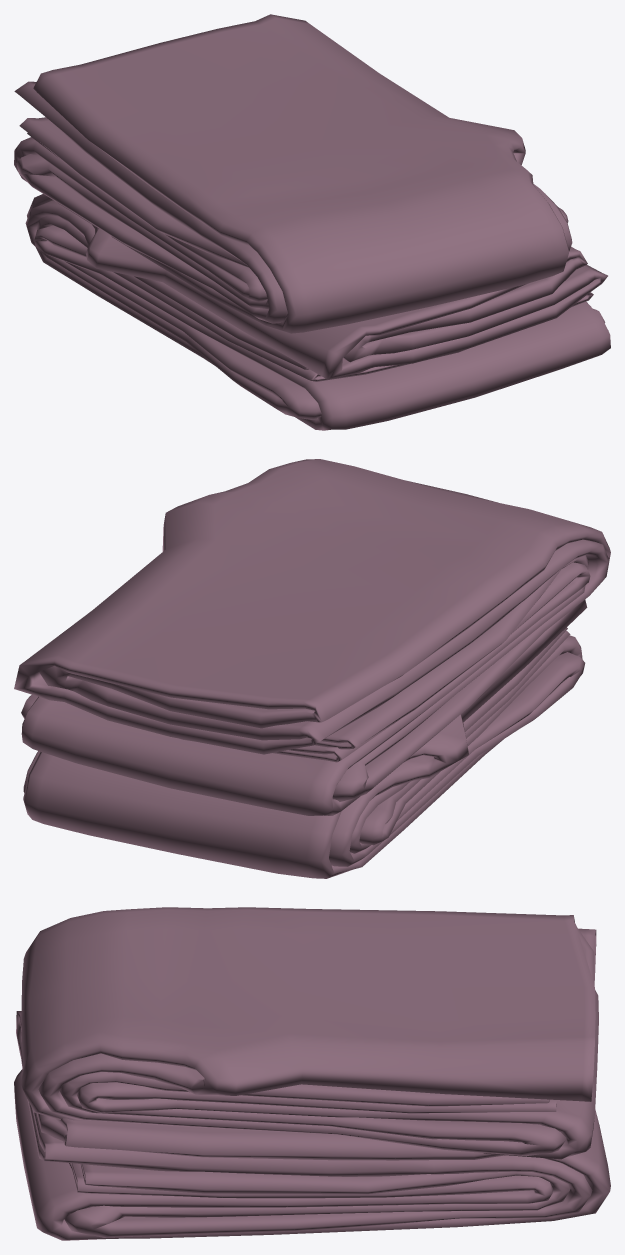
The model's file is Folded_Pant22.fbx.
3 views of the same model, one above another, from view 1: azimuth 30°, elevation 25°; view 2: azimuth 150°, elevation 25°; view 3: azimuth 270°, elevation 25° (orthographic). The views are drawn at different scales.
Parts seen in each view (by area): view 1: Folded_Pant22; view 2: Folded_Pant22; view 3: Folded_Pant22.
Part boxes in pixels (left/top/right/bottom): Folded_Pant22: left=14, top=14, right=610, bottom=430; Folded_Pant22: left=14, top=459, right=610, bottom=878; Folded_Pant22: left=14, top=907, right=610, bottom=1240.
Bounding box in the file's own units: 25.02 × 11.51 × 34.5.
Materials: 1 (1 with a texture image).
